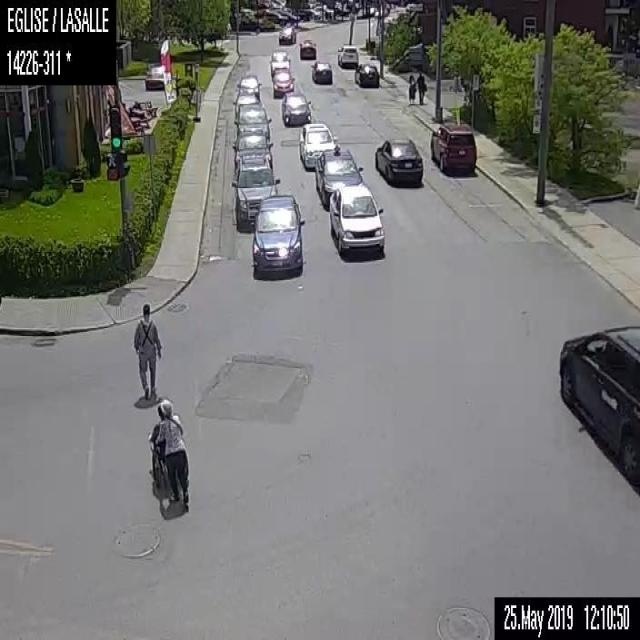pedestrian: (159, 399, 189, 512), (133, 302, 161, 402), (148, 406, 168, 492), (414, 71, 428, 104), (406, 72, 416, 103)
vehicle: (557, 321, 639, 487), (251, 193, 304, 280), (326, 184, 385, 259), (229, 152, 280, 232), (314, 141, 362, 203), (429, 121, 477, 171), (372, 134, 422, 182), (298, 122, 336, 171), (232, 128, 275, 162), (232, 103, 271, 138), (280, 91, 311, 124), (272, 68, 294, 98), (235, 72, 260, 98), (353, 62, 380, 86), (336, 40, 358, 68), (143, 64, 166, 90), (310, 59, 332, 84), (270, 50, 292, 75), (297, 37, 316, 60), (278, 24, 296, 44), (277, 9, 299, 22), (297, 7, 319, 20), (264, 10, 286, 22)
